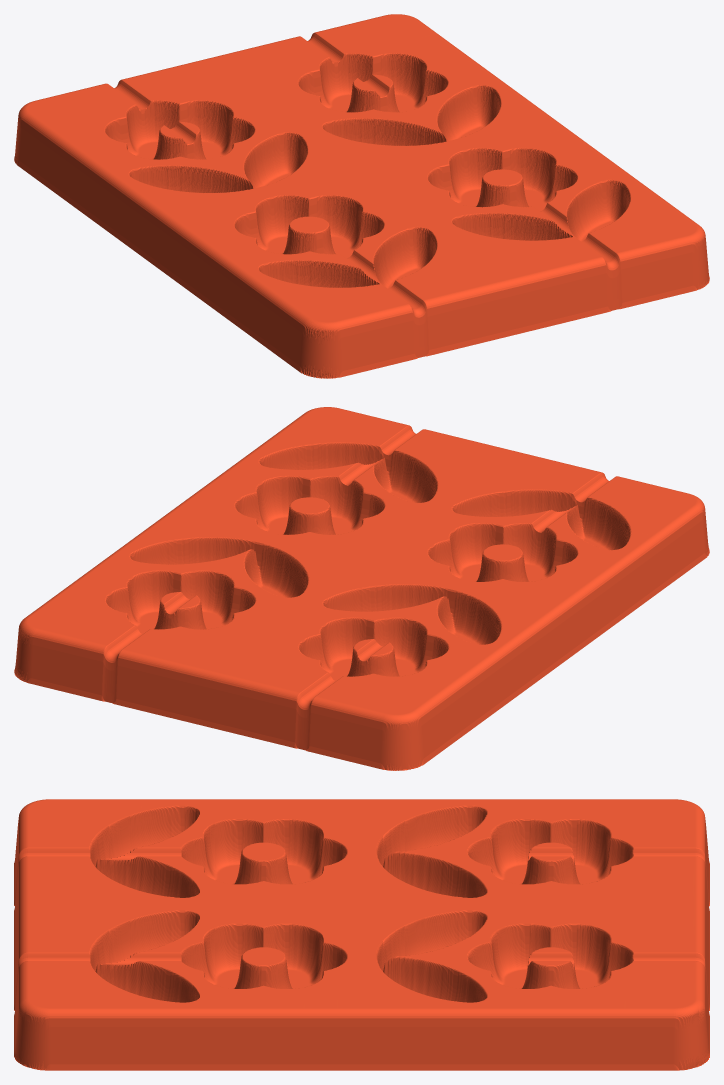
Rendered from mold.glb.
3 views of the same model, one above another, from view 1: azimuth 30°, elevation 25°; view 2: azimuth 150°, elevation 25°; view 3: azimuth 270°, elevation 25° (orthographic). The views are drawn at different scales.
Visible parts, largest first — view 1: geometry_0; view 2: geometry_0; view 3: geometry_0.
Part boxes in pixels (x1=…): geometry_0: x1=14, y1=14, x2=709, y2=378; geometry_0: x1=14, y1=407, x2=709, y2=770; geometry_0: x1=14, y1=799, x2=709, y2=1070.
Bounding box in the file's own units: 0.1299 × 0.0155 × 0.1735.
